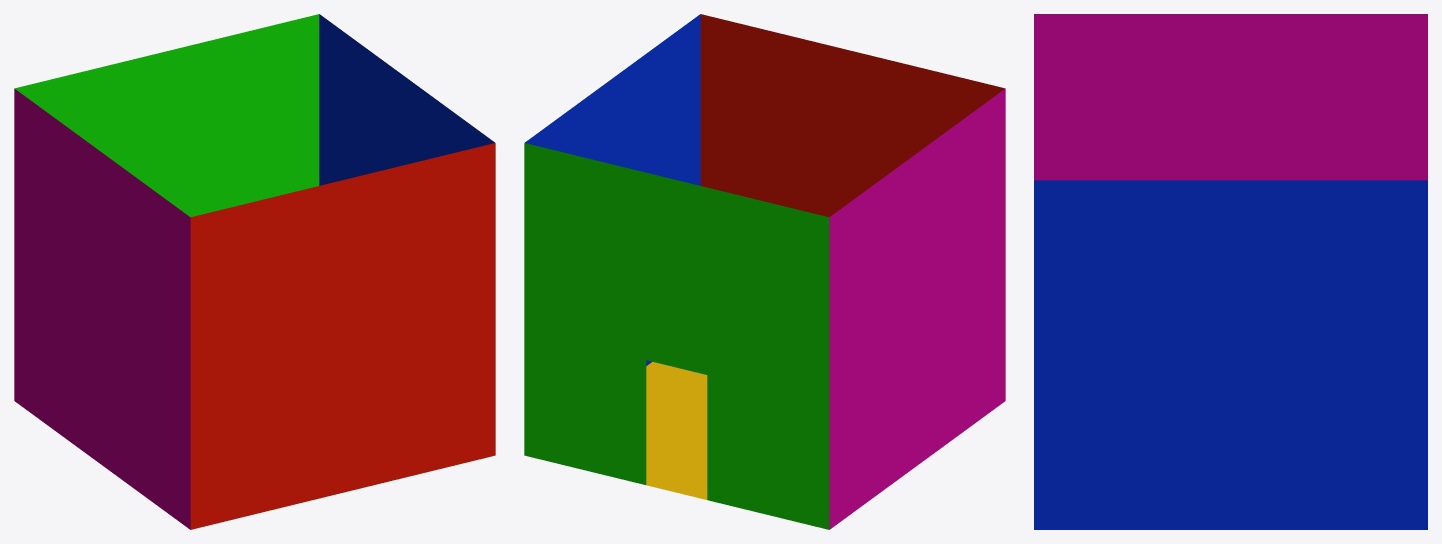
The model's file is puerta arriba.fbx.
3 views of the same model, side by side, from view 1: azimuth 30°, elevation 25°; view 2: azimuth 150°, elevation 25°; view 3: azimuth 270°, elevation 25° (orthographic). The views are drawn at different scales.
Parts seen in each view (by area): view 1: Cube; view 2: Cube; view 3: Cube.
Part boxes in pixels (box(x1,y1,x2,y2)): Cube: box(14, 14, 495, 529); Cube: box(524, 14, 1005, 529); Cube: box(1034, 14, 1427, 529).
Bounding box in the file's own units: 341 × 334 × 341.
